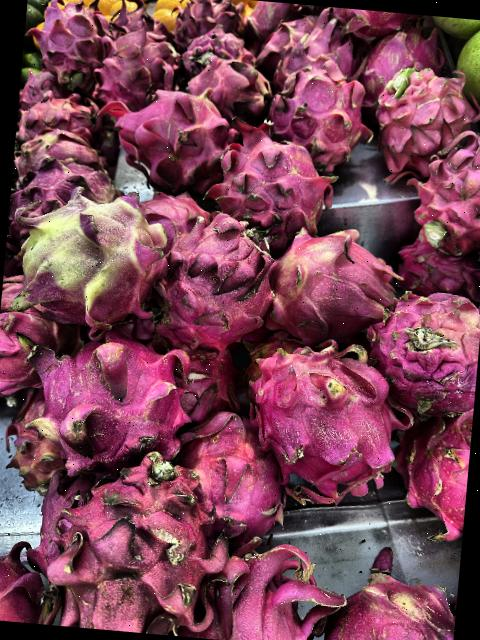buah-naga-belum-matang: (242, 343, 407, 495), (5, 182, 168, 320), (367, 282, 480, 409), (276, 218, 392, 336), (320, 543, 460, 640), (13, 153, 115, 215), (13, 124, 95, 174)
buah-naga-matang: (51, 447, 230, 639), (16, 328, 204, 468), (175, 398, 290, 534), (158, 210, 276, 340), (212, 125, 342, 236), (214, 530, 335, 640), (106, 84, 232, 188), (268, 61, 374, 176), (375, 59, 480, 166), (402, 399, 474, 543), (418, 124, 480, 252), (24, 0, 111, 87), (92, 26, 176, 100), (389, 230, 480, 298), (187, 52, 276, 119), (270, 12, 359, 76), (363, 26, 444, 92), (16, 94, 90, 138), (330, 8, 404, 42), (172, 0, 241, 36), (183, 27, 247, 64)
